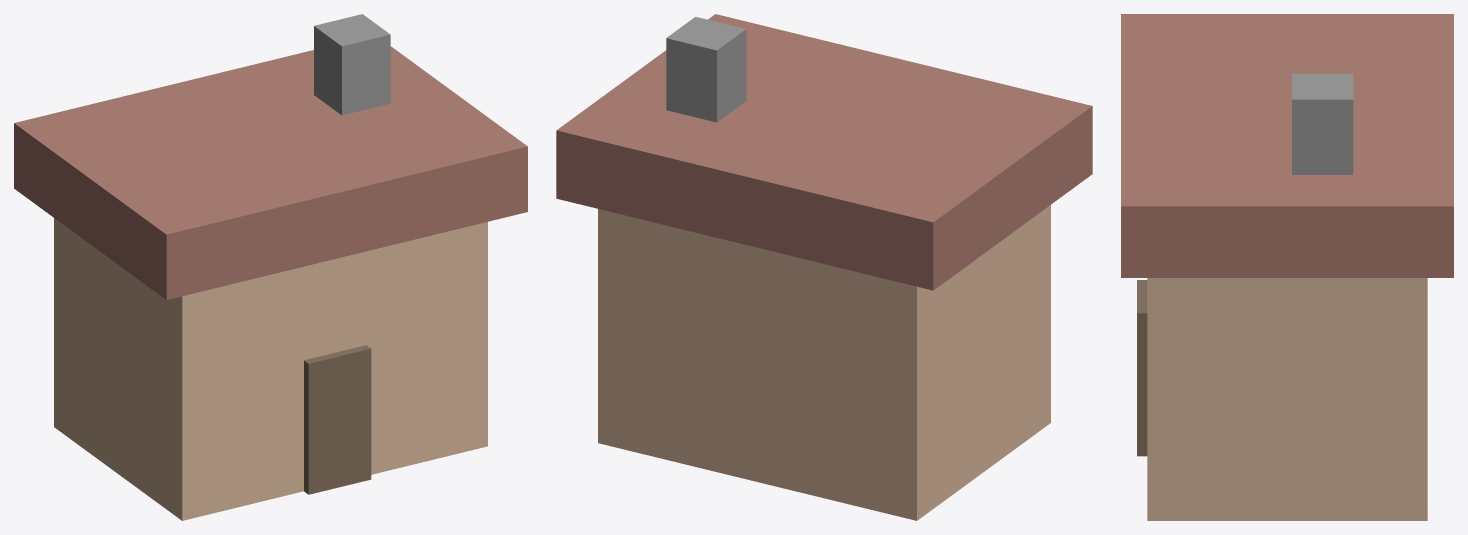
The model's file is surface-prop.glb.
3 renders of one model, left to right at view 1: azimuth 30°, elevation 25°; view 2: azimuth 150°, elevation 25°; view 3: azimuth 270°, elevation 25°, orthographic. The views are drawn at different scales.
Parts seen in each view (by area): view 1: Body, Roof, Door, Chimney; view 2: Body, Roof, Chimney; view 3: Roof, Body, Chimney, Door.
Boxes of the visible parts, left/top/right/bottom form: Body: left=54, top=218, right=487, bottom=520; Roof: left=14, top=46, right=527, bottom=299; Door: left=304, top=345, right=371, bottom=494; Chimney: left=314, top=14, right=390, bottom=115; Body: left=598, top=205, right=1050, bottom=520; Roof: left=556, top=14, right=1092, bottom=290; Chimney: left=666, top=16, right=746, bottom=122; Roof: left=1121, top=14, right=1453, bottom=277; Body: left=1147, top=278, right=1427, bottom=520; Chimney: left=1292, top=73, right=1353, bottom=174; Door: left=1137, top=280, right=1147, bottom=456.
Bounding box in the file's own units: 2.6 × 2.55 × 1.9.
